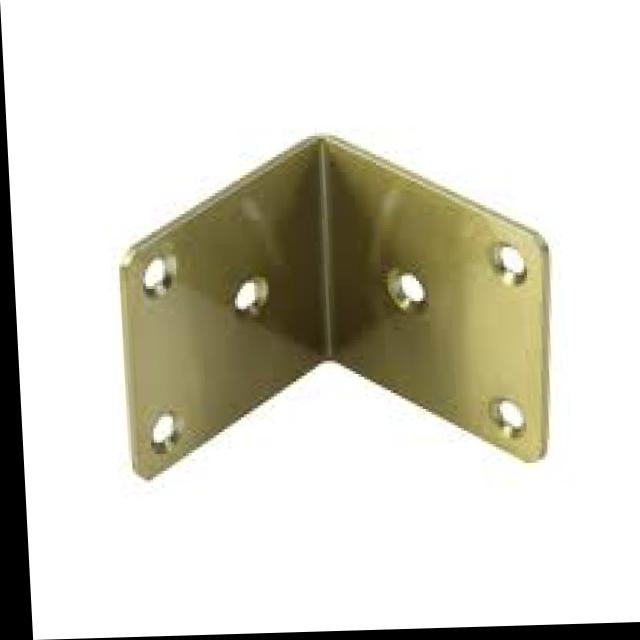holes: (224, 267, 270, 325), (484, 248, 531, 290), (137, 248, 173, 301), (382, 271, 424, 311), (141, 408, 179, 447), (483, 396, 518, 432)
